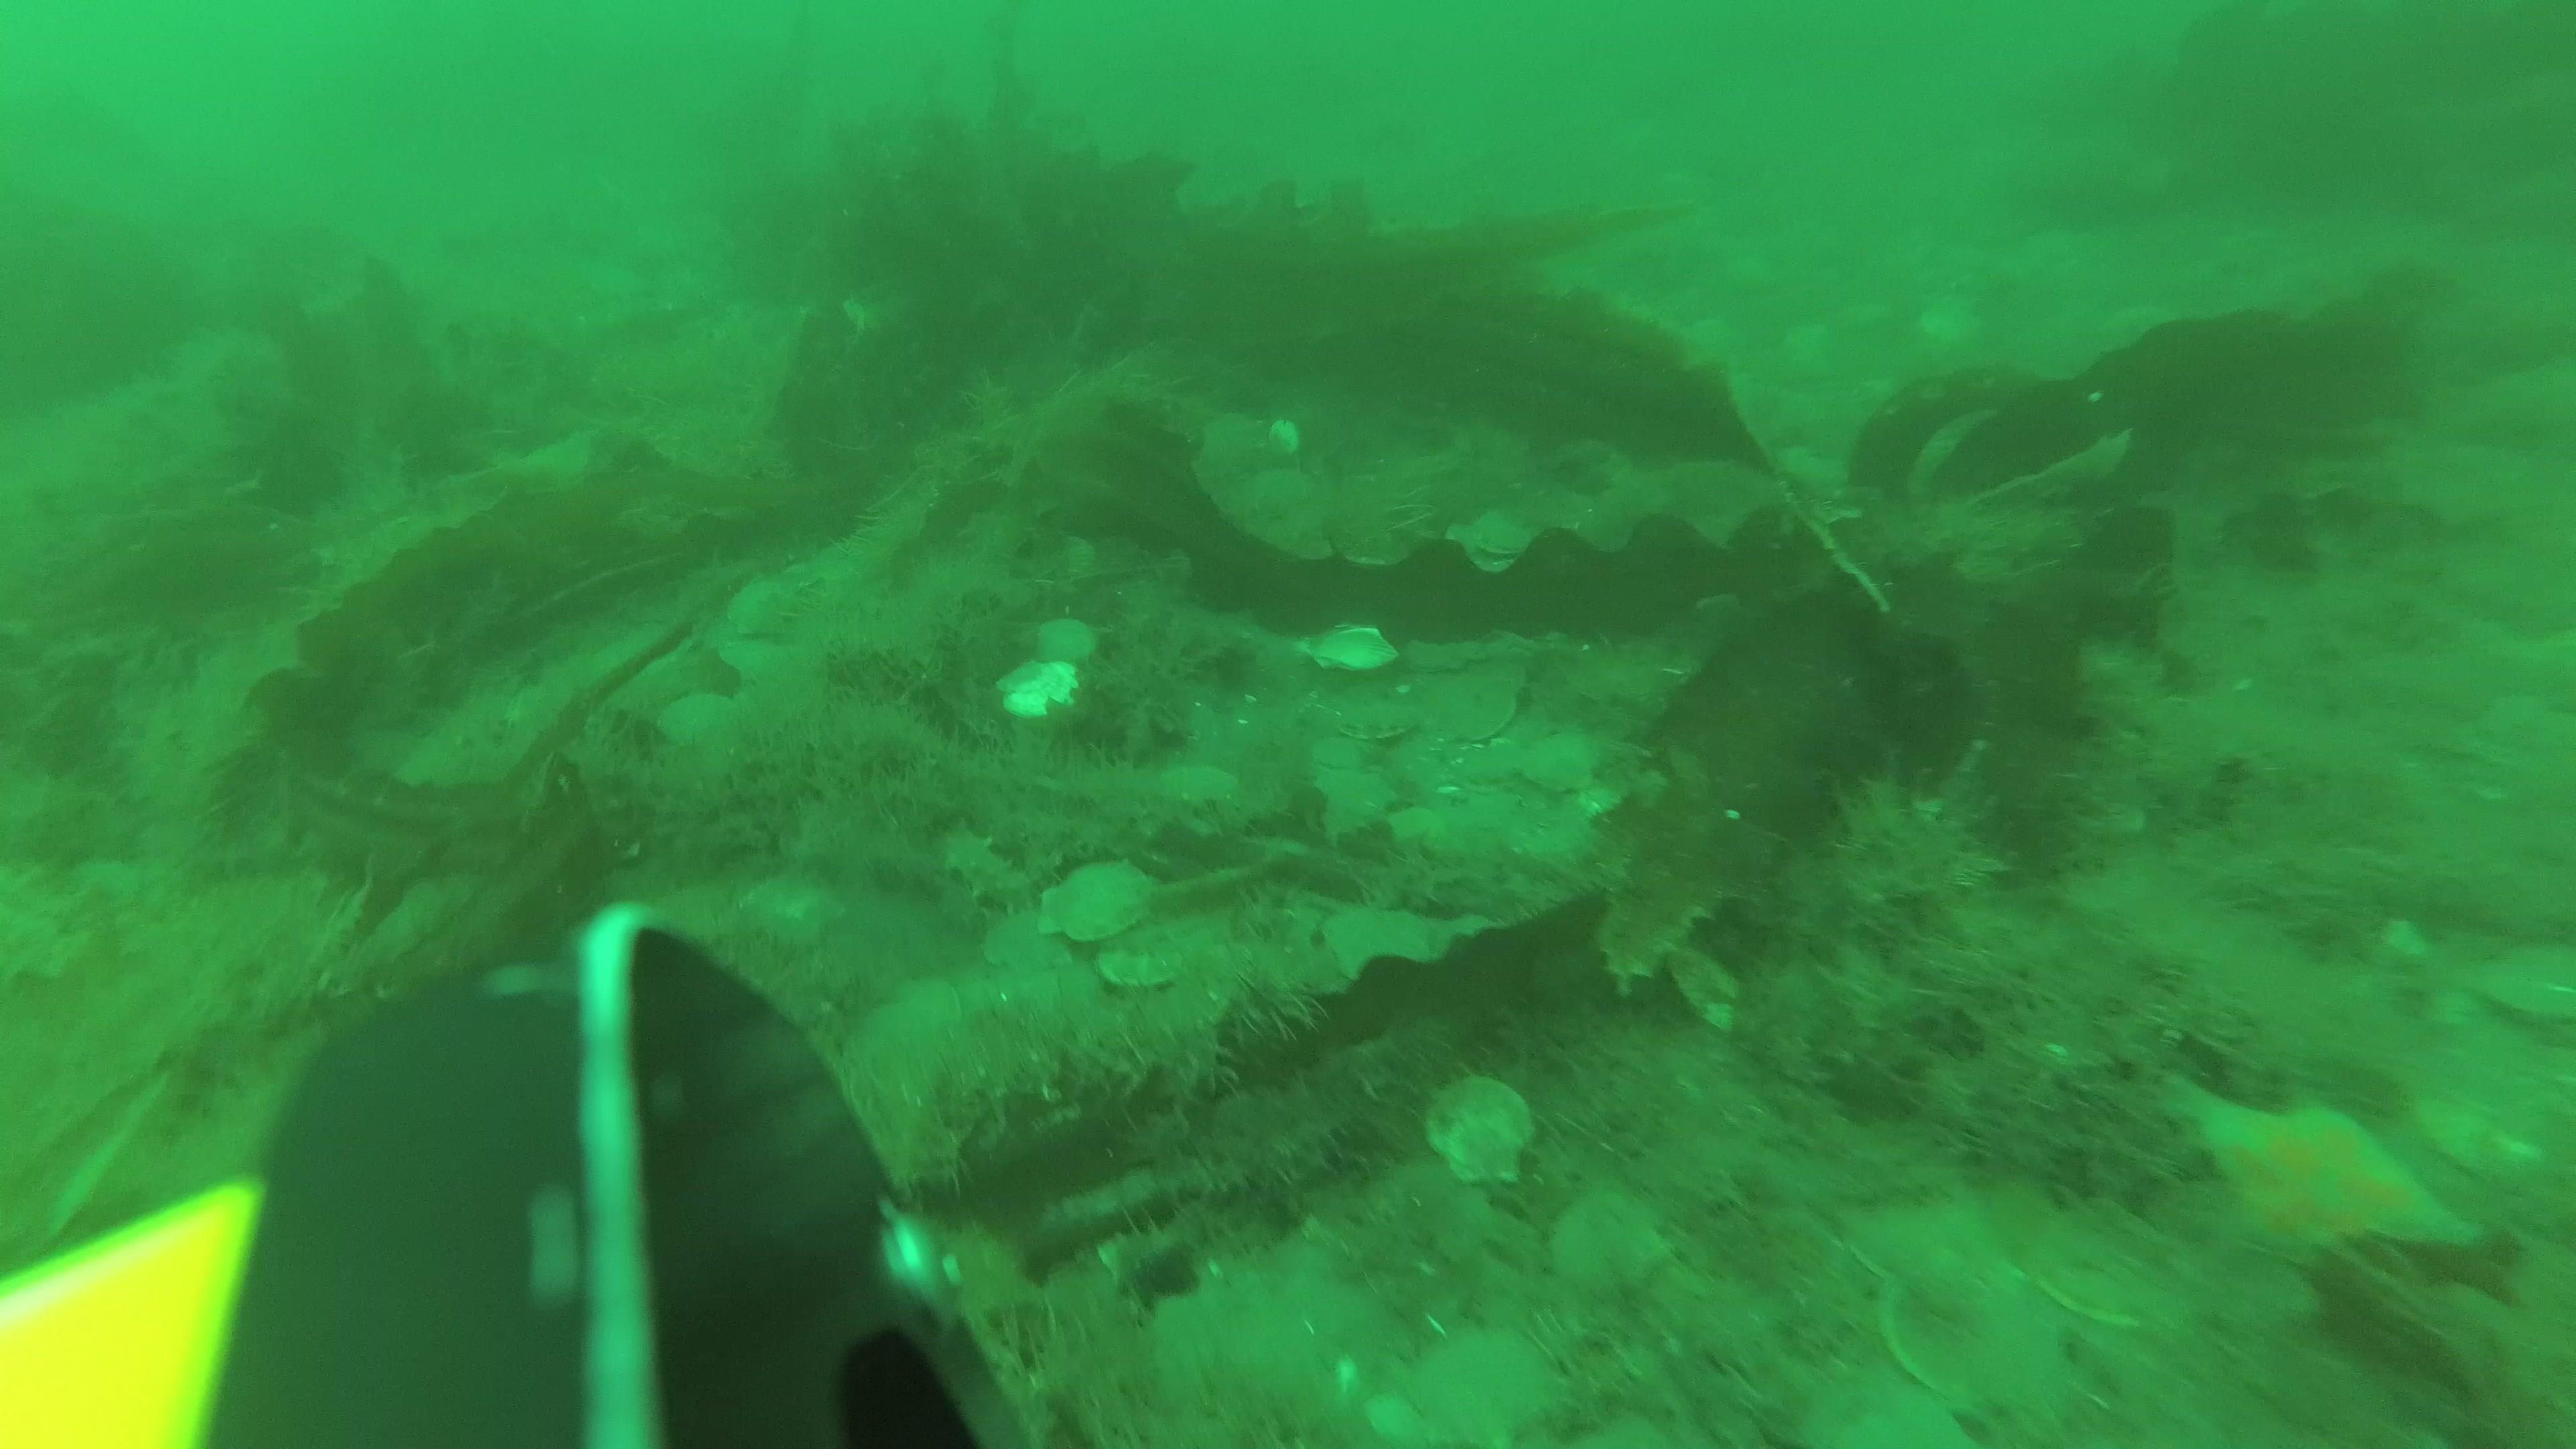holothurian: (936, 819, 1046, 925)
scallop: (1867, 1260, 2061, 1396), (2035, 1196, 2217, 1334), (1408, 1322, 1562, 1449), (1424, 1074, 1539, 1196), (1553, 1187, 1674, 1302), (1316, 899, 1442, 991), (1033, 855, 1157, 947), (734, 869, 849, 954), (2465, 934, 2576, 1019), (1663, 945, 1752, 1035), (985, 655, 1088, 725), (1516, 727, 1612, 800), (1093, 936, 1207, 993), (1438, 683, 1534, 748), (718, 571, 803, 644), (1150, 754, 1242, 816), (1300, 623, 1403, 676), (1465, 502, 1539, 561), (1334, 697, 1415, 750), (1037, 610, 1099, 669), (1246, 465, 1320, 513)
starfish: (2153, 1063, 2491, 1269)
